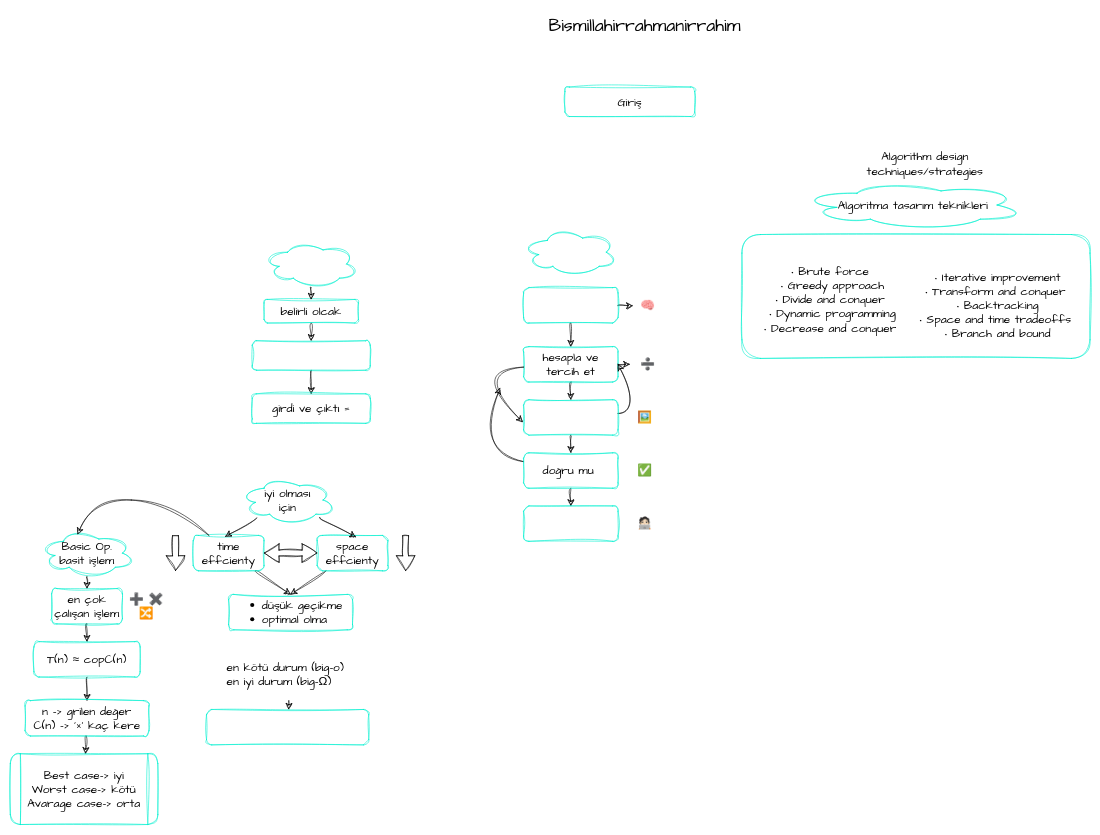
This 1100x835 diagram has some shape labels left out. The shapes that lost their labels are listed below. From the top down, each one's centre as x and y in pixels, then its label:
pixel 310 264: tanımı
pixel 570 252: tasarım ve işlem
pixel 570 305: problemi anla
pixel 311 355: aralığı ve girilen değer göre ayarla
pixel 570 417: algoyu tasarla
pixel 570 523: artık bi zahmet kodla ‼️
pixel 287 727: logan -> a önemsiz -> log n n a + n a-1 -> a -1 önemsiz -> ş a
